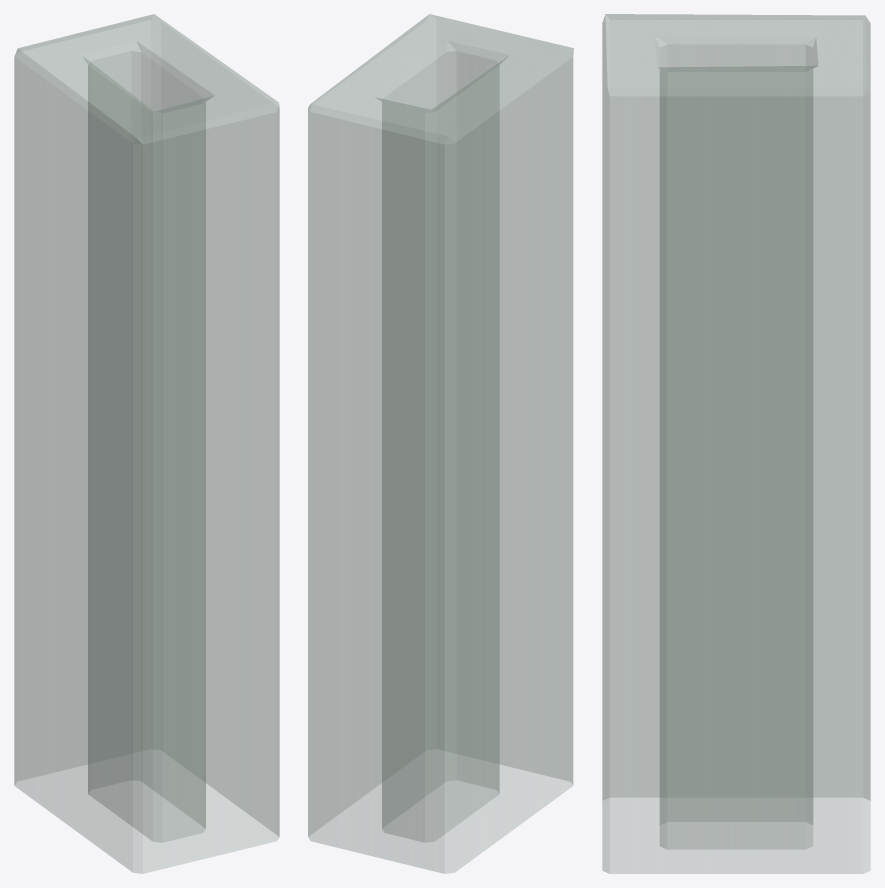
The picture shows the model from 3 angles, left to right: view 1: azimuth 30°, elevation 25°; view 2: azimuth 150°, elevation 25°; view 3: azimuth 270°, elevation 25°; orthographic projection. The views are drawn at different scales.
Parts seen in each view (by area): view 1: O; view 2: O; view 3: O.
Boxes of the visible parts, <box> form: O: <box>14,14,279,873</box>; O: <box>308,14,573,873</box>; O: <box>602,14,870,873</box>.
Bounding box in the file's own units: 0.4042 × 1.94 × 0.6019.
1 material, 1 textured.
